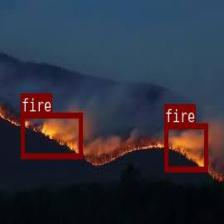fire: (20, 112, 82, 158), (164, 123, 208, 171)
